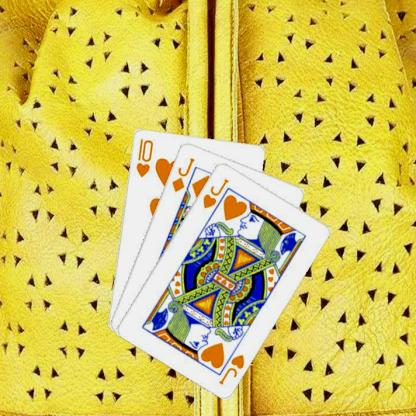10H: (133, 136, 154, 178)
JD: (169, 155, 196, 193)
JH: (200, 175, 230, 210), (216, 351, 246, 386)
